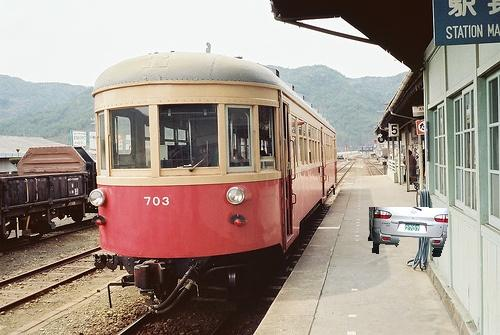tampered: (369, 208, 448, 257)
